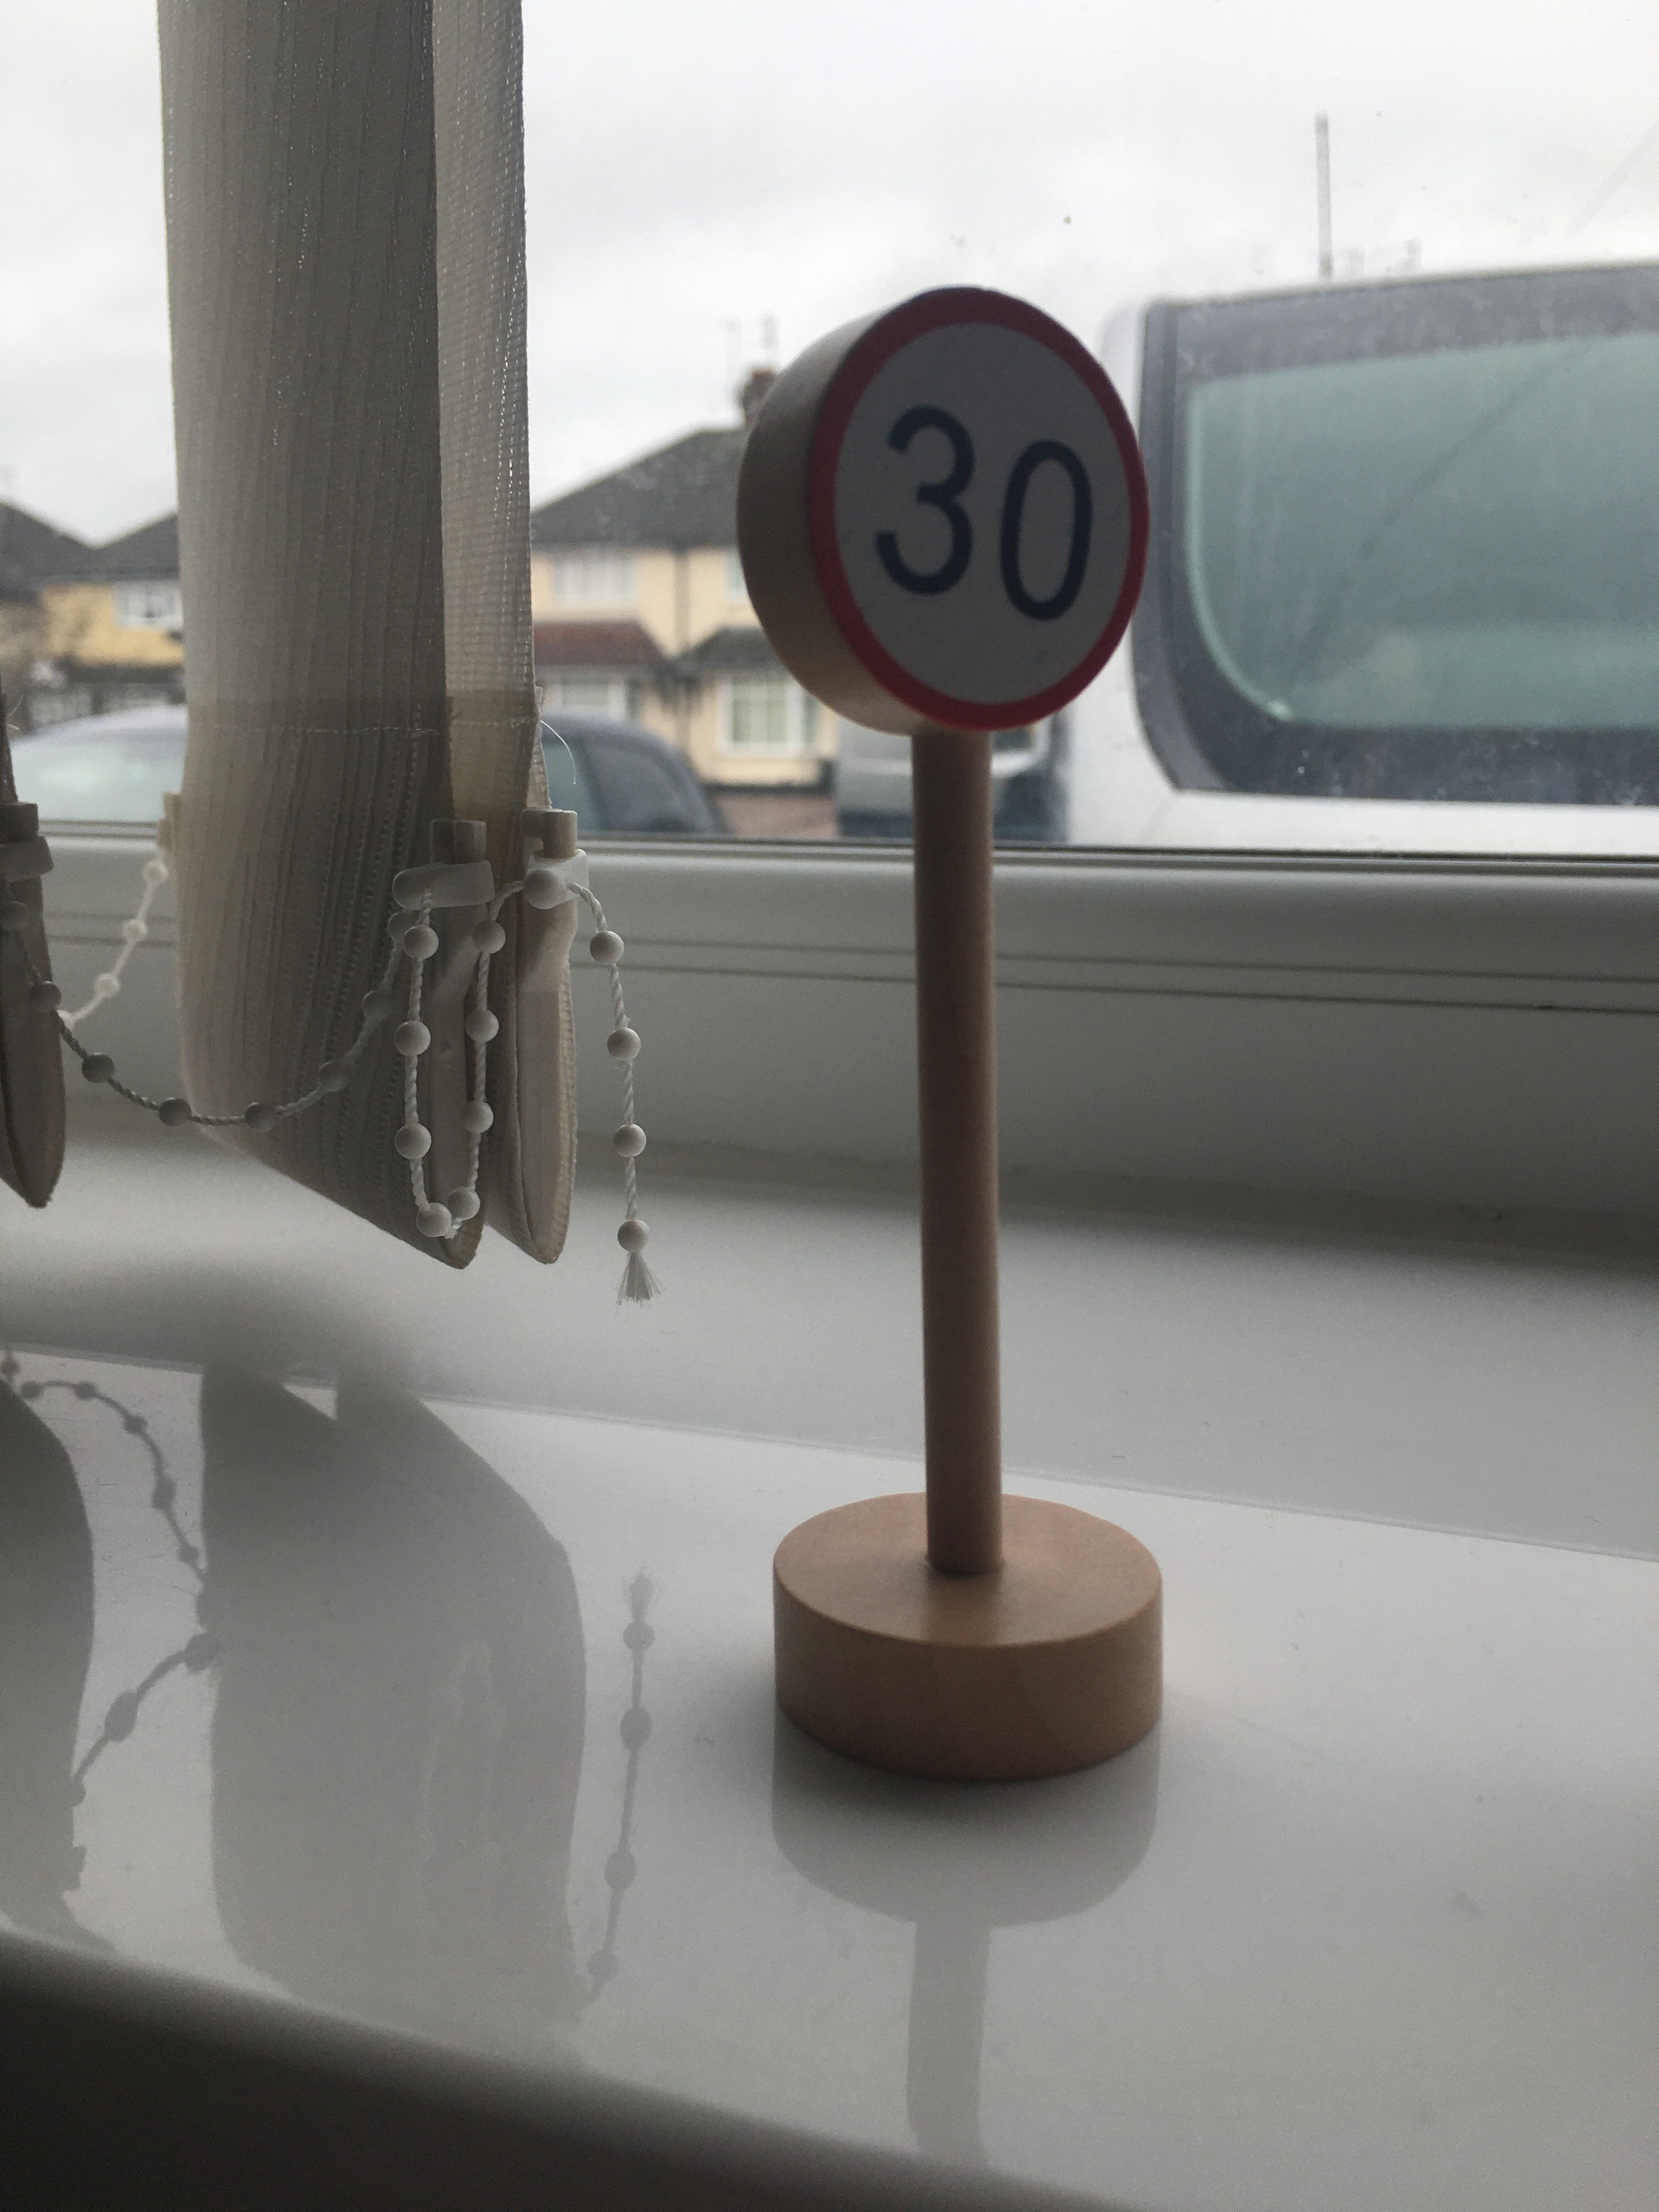Traffic_Sign_30: (812, 284, 1150, 721)
